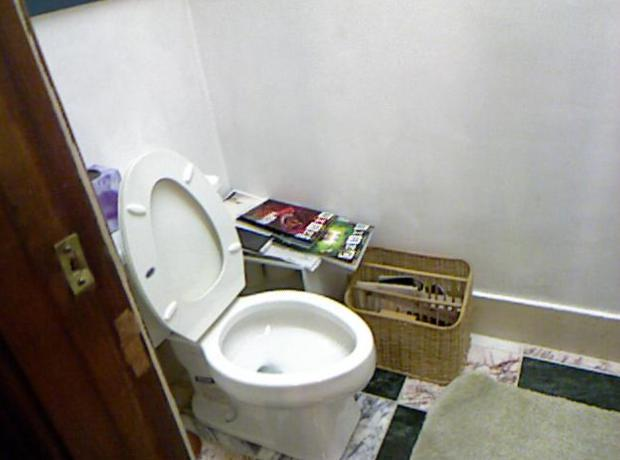Sanitario: (85, 149, 379, 457)
